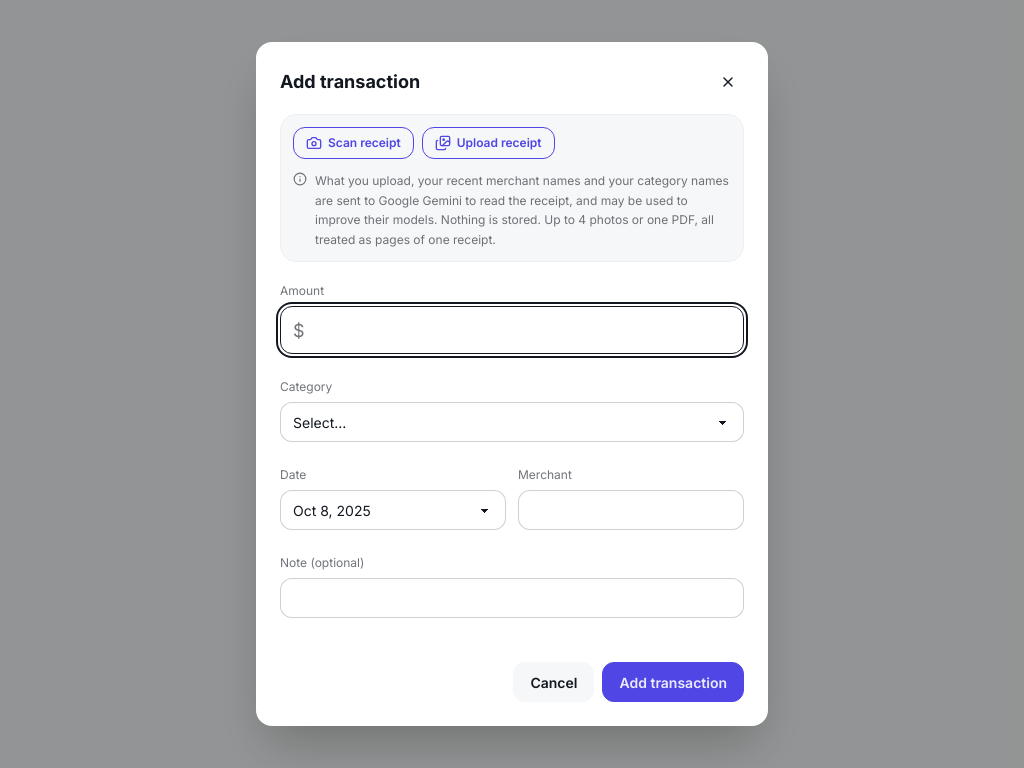
AC3: a missing required field › clears a message when that field changes, and leaves the others alone
Click the button "Add transaction" at (673, 682), box [602, 662, 744, 702]
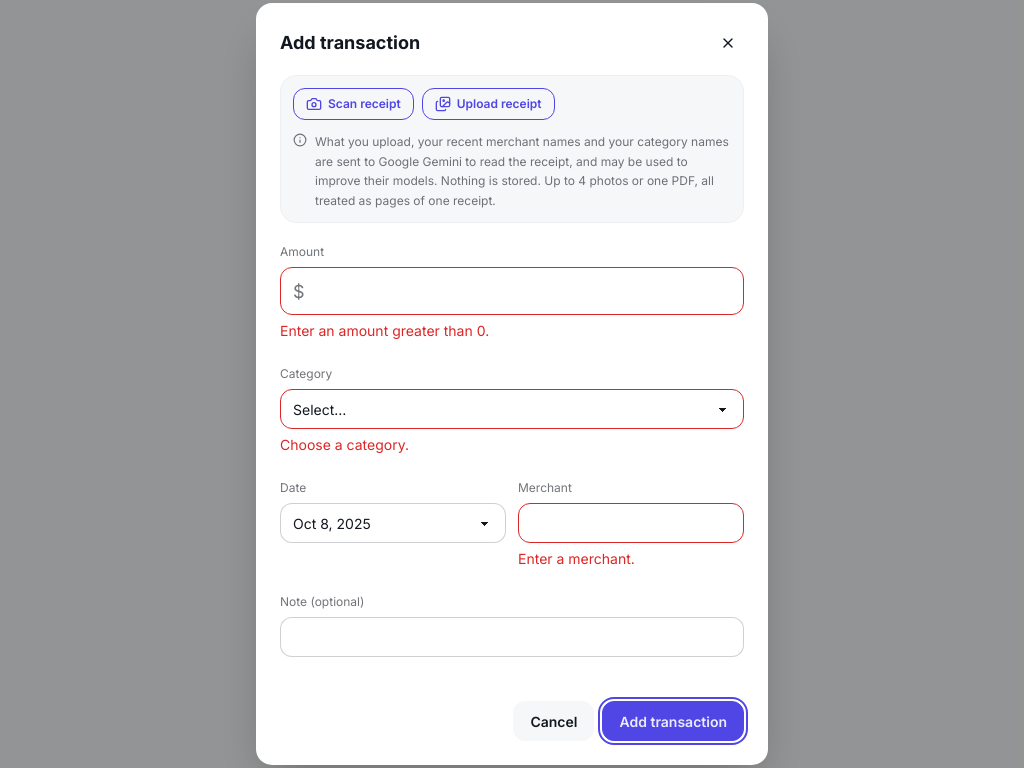
Type "W" into the field labelled "Merchant" at (631, 523), box [518, 503, 744, 543]
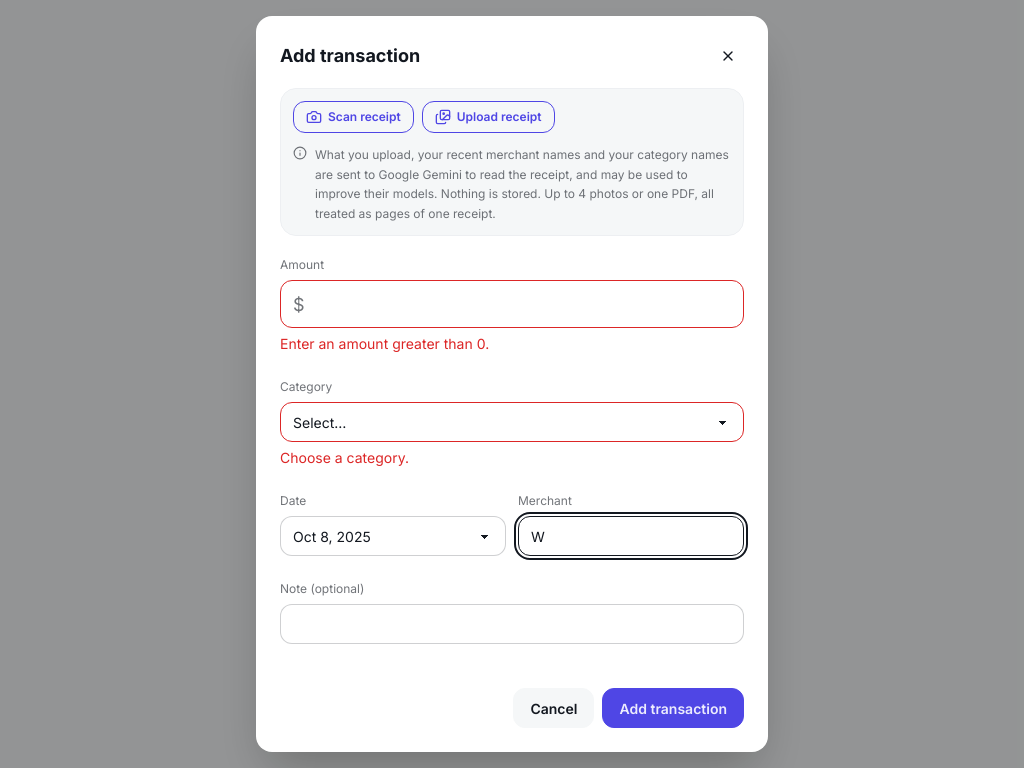
Now the text "Enter an amount greater than 0." is shown, box [280, 335, 489, 352]
Now the text "Enter a merchant." is gone
